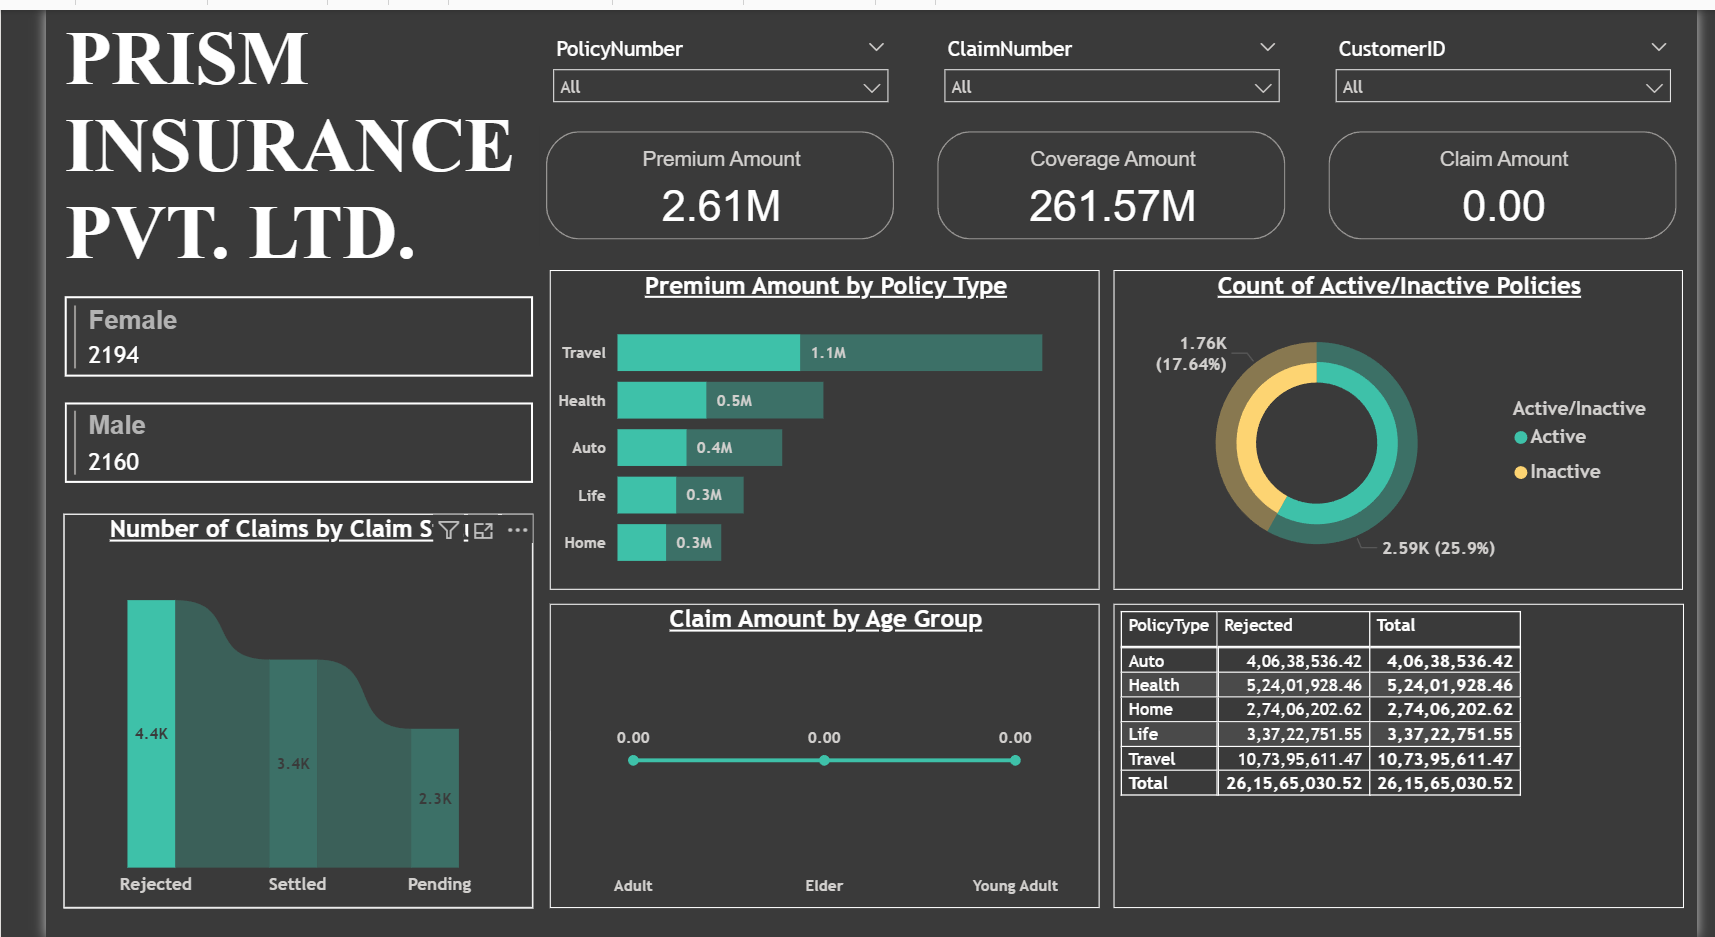

This screenshot's page, from the dashboard's own definition file:
{"tool":"powerbi","page":{"name":"Page 1","canvas":[1280,720],"ordinal":0},"visuals":[{"type":"slicer","fields":{"Values":["insurancedb insurancedata.ï»¿PolicyNumber"]},"box":[382.6,15.1,280.2,74.4],"z":0},{"type":"slicer","fields":{"Values":["insurancedb insurancedata.ClaimNumber"]},"box":[686,15.1,280.2,74.4],"z":1000},{"type":"slicer","fields":{"Values":["insurancedb insurancedata.CustomerID"]},"box":[989.5,15.1,280.2,74.4],"z":2000},{"type":"textbox","box":[9.3,0,373.3,217.4],"z":3000},{"type":"cardVisual","fields":{"Data":["Sum(insurancedb insurancedata.PremiumAmount)"]},"box":[382.6,89.5,280.2,94.2],"z":4000},{"type":"cardVisual","fields":{"Data":["Sum(insurancedb insurancedata.CoverageAmount)"]},"box":[686,89.5,280.2,94.2],"z":5000},{"type":"cardVisual","fields":{"Data":["Sum(insurancedb insurancedata.ClaimAmount)"]},"box":[989.5,89.5,280.2,94.2],"z":6000},{"type":"multiRowCard","fields":{"Values":["insurancedb insurancedata.Gender","CountNonNull(insurancedb insurancedata.Gender)"]},"box":[9.3,217.4,373.3,181.4],"z":7000},{"type":"ribbonChart","title":"Number of Claims by Claim Status ","fields":{"Category":["insurancedb insurancedata.ClaimStatus"],"Y":["CountNonNull(insurancedb insurancedata.ClaimStatus)"]},"box":[14,390.7,364,305.8],"z":8000},{"type":"barChart","title":"Premium Amount by Policy Type","fields":{"Category":["insurancedb insurancedata.PolicyType"],"Y":["Sum(insurancedb insurancedata.PremiumAmount)"]},"box":[390.7,201.2,426.7,247.7],"z":9000},{"type":"lineChart","title":"Claim Amount by Age Group","fields":{"Category":["insurancedb insurancedata.Age Group"],"Y":["Sum(insurancedb insurancedata.ClaimAmount)"]},"box":[390.7,460.5,426.7,236],"z":10000},{"type":"donutChart","title":"Count of Active/Inactive Policies","fields":{"Category":["insurancedb insurancedata.Active/Inactive"],"Y":["CountNonNull(insurancedb insurancedata.Active/Inactive)"]},"box":[827.9,201.2,441.9,247.7],"z":11000},{"type":"pivotTable","fields":{"Values":["Sum(insurancedb insurancedata.CoverageAmount)"],"Rows":["insurancedb insurancedata.PolicyType"],"Columns":["insurancedb insurancedata.ClaimStatus"]},"box":[828,460,442,236],"z":12000}]}

Visuals, with their boxes in screenshot pixels (x1, y1, x2, y2), scaled from the page's 1280x720 canvas onto the 1715x937 screenshot:
slicer - insurancedb insurancedata.ï»¿PolicyNumber: box(513, 20, 888, 116)
slicer - insurancedb insurancedata.ClaimNumber: box(919, 20, 1295, 116)
slicer - insurancedb insurancedata.CustomerID: box(1326, 20, 1701, 116)
textbox: box(12, 0, 513, 283)
cardVisual - Sum(insurancedb insurancedata.PremiumAmount): box(513, 116, 888, 239)
cardVisual - Sum(insurancedb insurancedata.CoverageAmount): box(919, 116, 1295, 239)
cardVisual - Sum(insurancedb insurancedata.ClaimAmount): box(1326, 116, 1701, 239)
multiRowCard - insurancedb insurancedata.Gender x CountNonNull(insurancedb insurancedata.Gender): box(12, 283, 513, 519)
"Number of Claims by Claim Status " ribbonChart: box(19, 508, 506, 906)
"Premium Amount by Policy Type" barChart: box(523, 262, 1095, 584)
"Claim Amount by Age Group" lineChart: box(523, 599, 1095, 906)
"Count of Active/Inactive Policies" donutChart: box(1109, 262, 1701, 584)
pivotTable - Sum(insurancedb insurancedata.CoverageAmount) x insurancedb insurancedata.PolicyType: box(1109, 599, 1702, 906)
